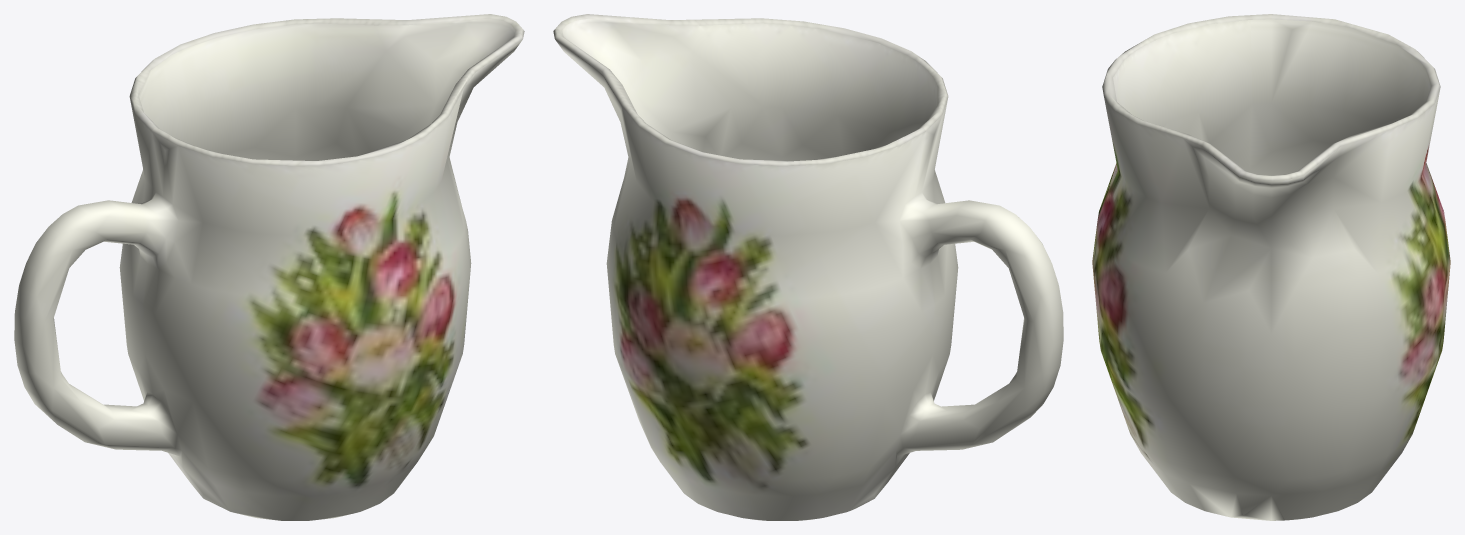
Rendered from jug.glb.
The picture shows the model from 3 angles, left to right: view 1: azimuth 30°, elevation 25°; view 2: azimuth 150°, elevation 25°; view 3: azimuth 270°, elevation 25°; orthographic projection. The views are drawn at different scales.
Parts seen in each view (by area): view 1: jug_01; view 2: jug_01; view 3: jug_01.
Part boxes in pixels (x1,y1,x2,y2): jug_01: (14, 14, 524, 520); jug_01: (553, 14, 1063, 520); jug_01: (1092, 14, 1450, 520).
Size of the model in its own units: 0.275 by 0.2113 by 0.1675.
1 material, 1 textured.
